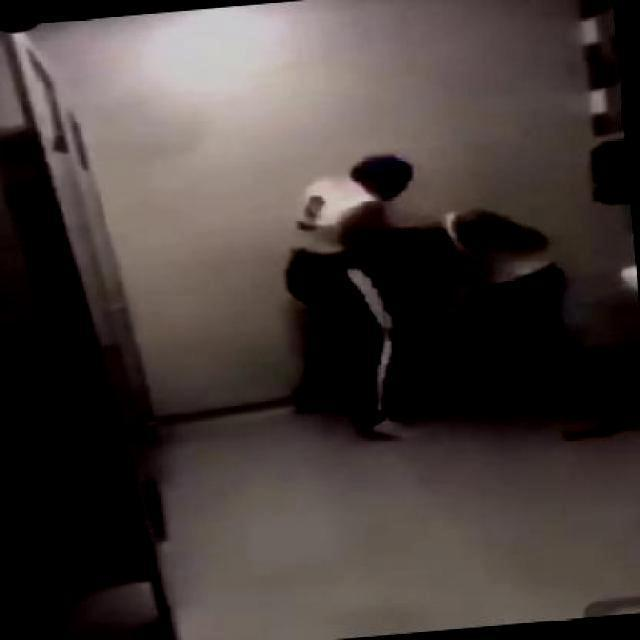fight: (280, 137, 620, 466)
